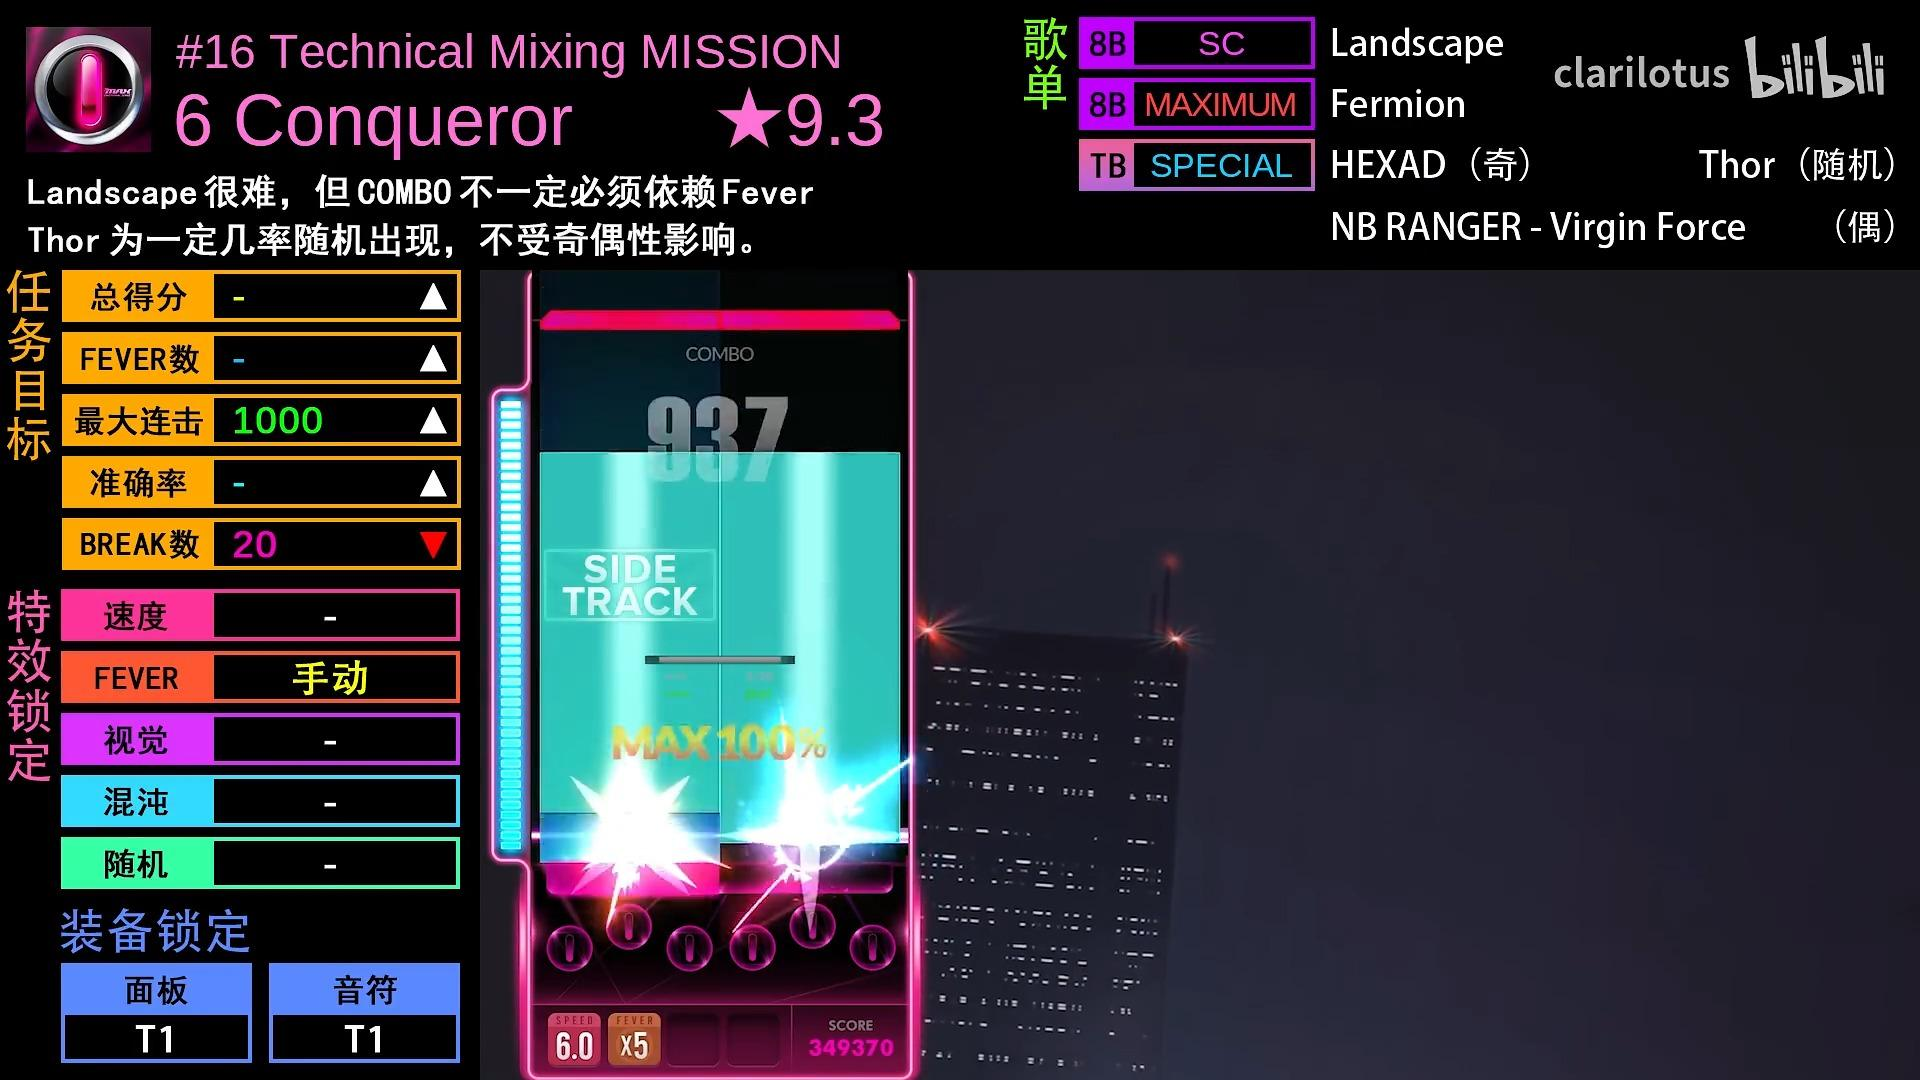side-end: (720, 452, 901, 474), (540, 451, 719, 473)
xnote: (540, 308, 721, 330), (720, 309, 901, 331)
